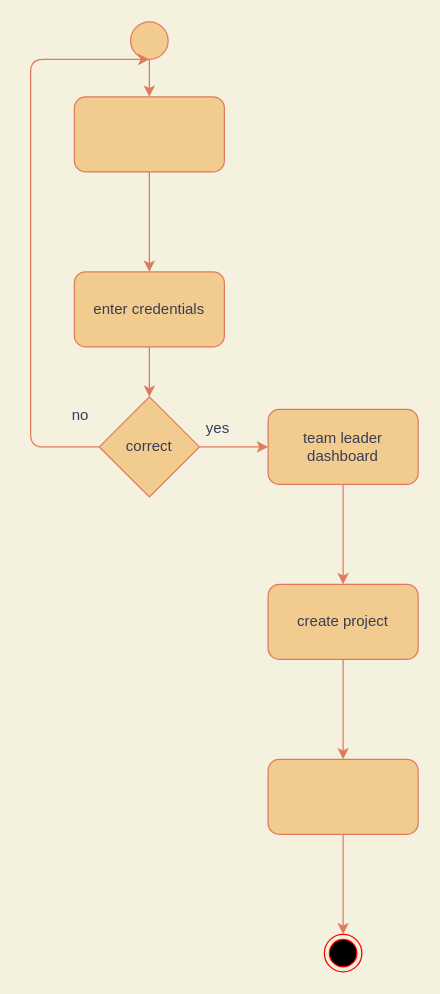
Some shapes in this 440 by 994 pixel diagram are drawn without their labels. Each missing label, with the centre of its shape:
add client enter client information: (342,796)
login page: (148,134)
